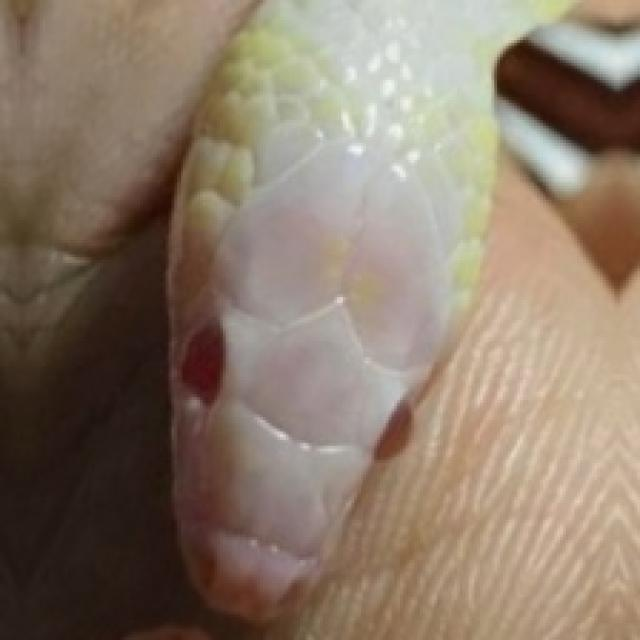gunthers philippine shrub snake: (169, 0, 637, 637)
